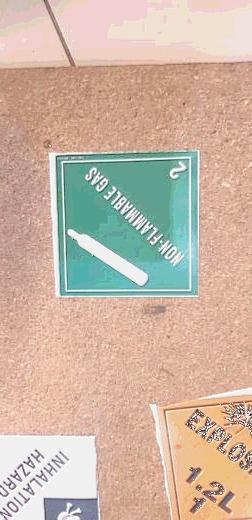explosive: (155, 398, 251, 519)
non-flammable-gas: (48, 150, 200, 297)
poison: (1, 435, 97, 519)
